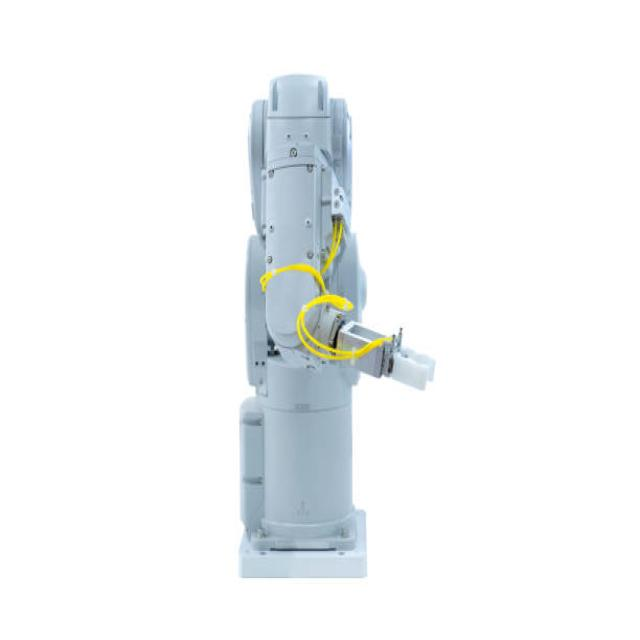Robotic-arm: (237, 65, 441, 593)
